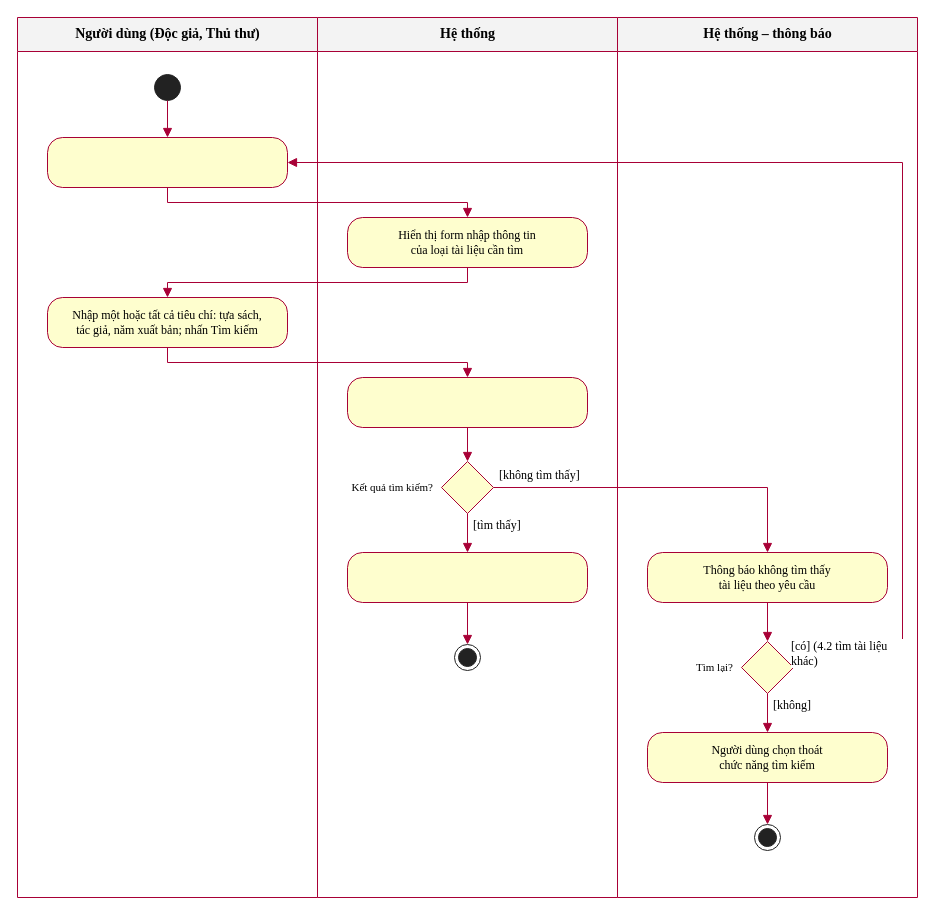
Some shapes in this 935 by 915 pixel diagram are drawn without their labels. The shapes that lost their labels are listed below. From the top down, each one's centre as x and y in pixels, then its label:
At pixel 167 162: "Tại giao diện chính, chọn loại tài liệu cần tìm".
At pixel 467 402: "Tìm tài liệu theo tiêu chí".
At pixel 467 577: "Hiển thị danh sách sách trong form kết quả".
